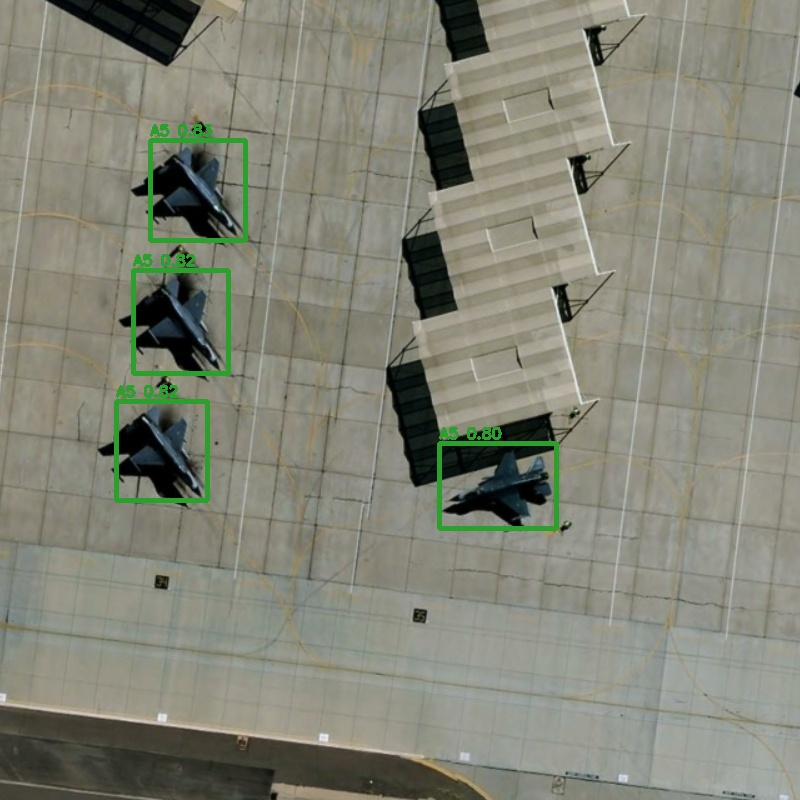A5: (439, 443, 556, 528), (133, 270, 228, 373), (150, 140, 245, 240), (116, 401, 207, 500)
